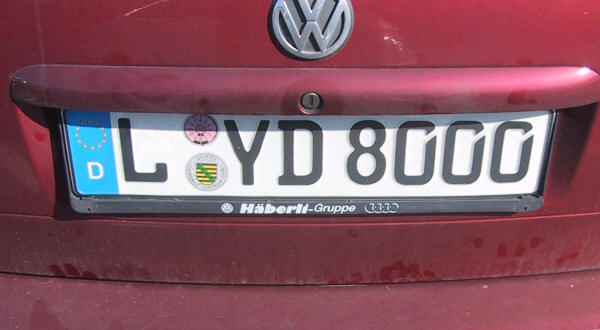license_plate: (60, 107, 554, 203)
